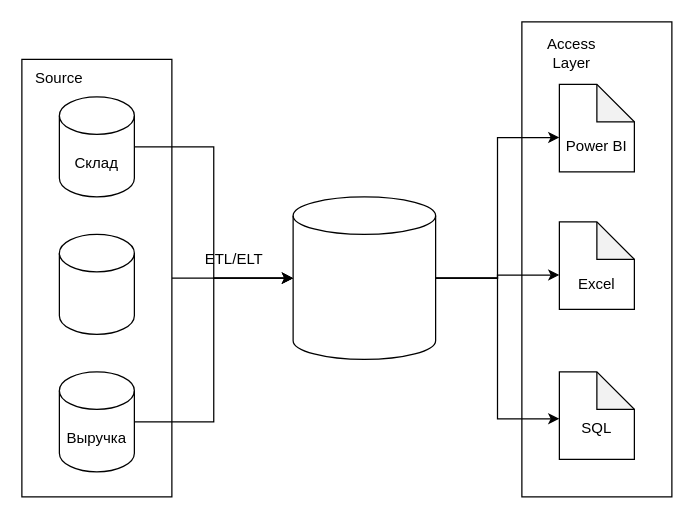
Image size: 694x519. Some labels were removed from this diagram. Each missing label, with the centre of its shape:
Data warehouse: the point at 364,277
Продажи: the point at 96,283
